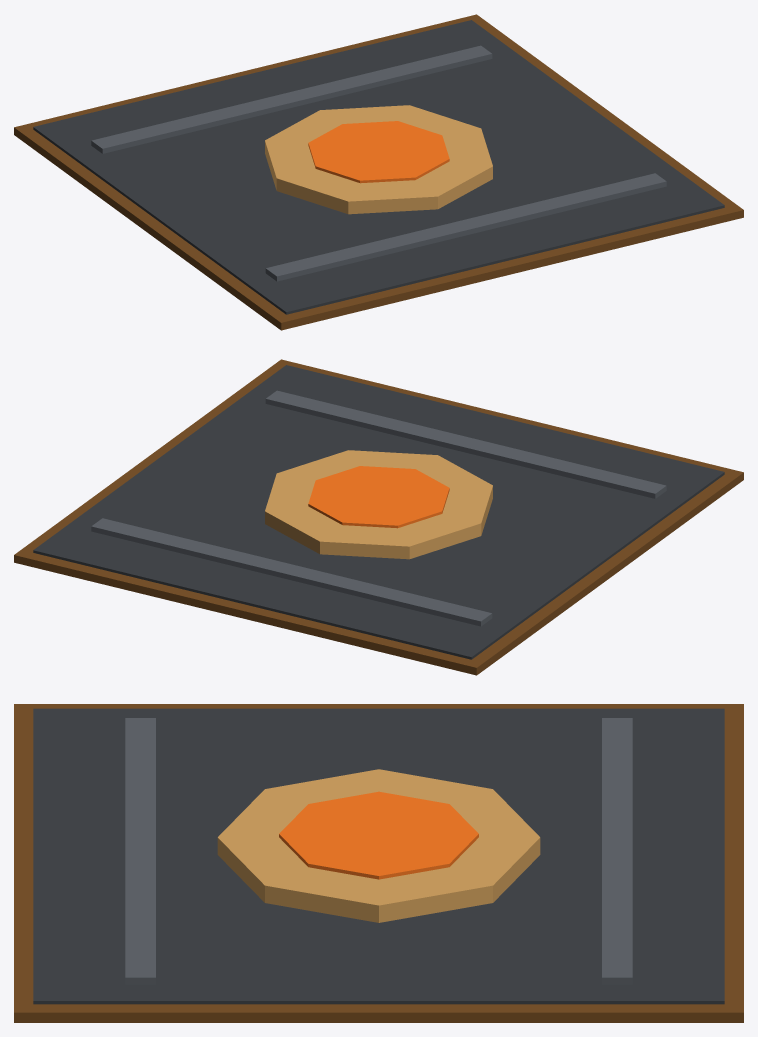
The model's file is PR_FireJetNozzle.fbx.
3 views of the same model, one above another, from view 1: azimuth 30°, elevation 25°; view 2: azimuth 150°, elevation 25°; view 3: azimuth 270°, elevation 25° (orthographic). The views are drawn at different scales.
Parts seen in each view (by area): view 1: PR_FireJetNozzle; view 2: PR_FireJetNozzle; view 3: PR_FireJetNozzle.
Part boxes in pixels (box(x1,y1,x2,y2)): PR_FireJetNozzle: box(14, 14, 743, 330); PR_FireJetNozzle: box(14, 359, 743, 675); PR_FireJetNozzle: box(14, 704, 743, 1022).
Size of the model in its own units: 1.9 by 1.9 by 0.11.
